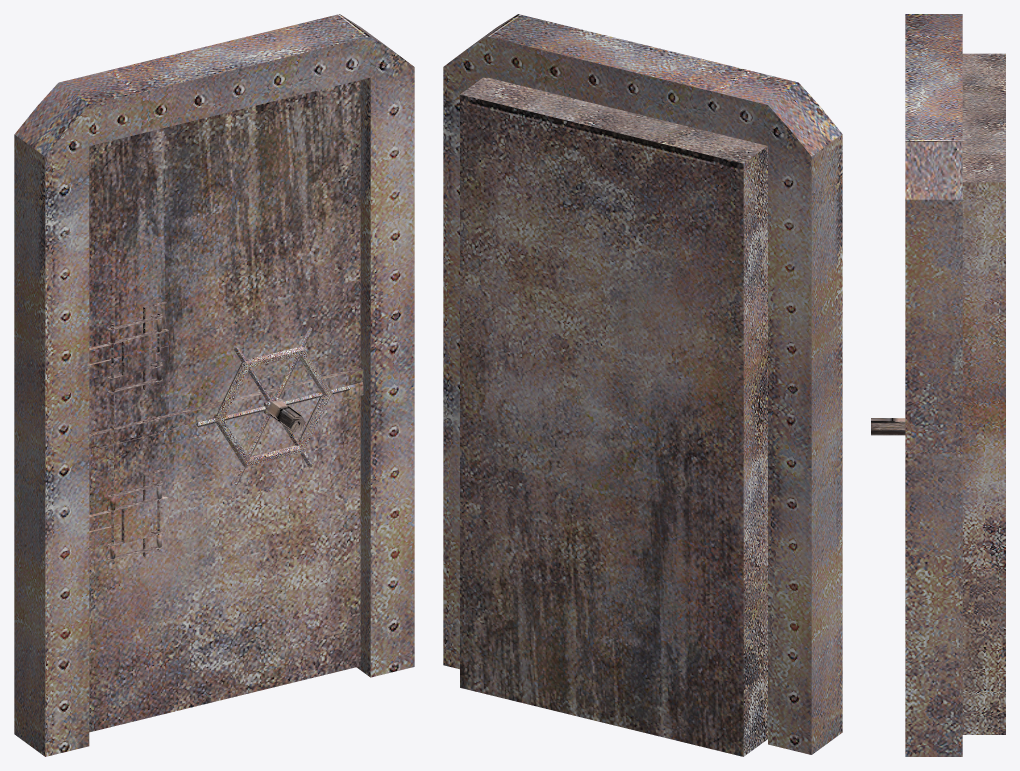
The model's file is door_firedoor_1.dae.
3 views of the same model, side by side, from view 1: azimuth 30°, elevation 25°; view 2: azimuth 150°, elevation 25°; view 3: azimuth 270°, elevation 25° (orthographic). The views are drawn at different scales.
Visible parts, largest first — view 1: door, frame, handle, _joint_hinge_handle_door_nocollide_joint1; view 2: door, frame; view 3: frame, door, _joint_hinge_handle_door_nocollide_joint1.
Boxes of the visible parts, box(x1,y1,x2,y2) form: door: box(89, 80, 363, 732); frame: box(14, 14, 414, 756); handle: box(196, 327, 350, 485); _joint_hinge_handle_door_nocollide_joint1: box(263, 399, 305, 432); door: box(460, 77, 767, 756); frame: box(443, 14, 842, 754); frame: box(905, 14, 962, 756); door: box(962, 53, 1005, 734); _joint_hinge_handle_door_nocollide_joint1: box(871, 418, 905, 435).
Size of what is drawn, in the model's own units: 130 by 216 by 44.22.
